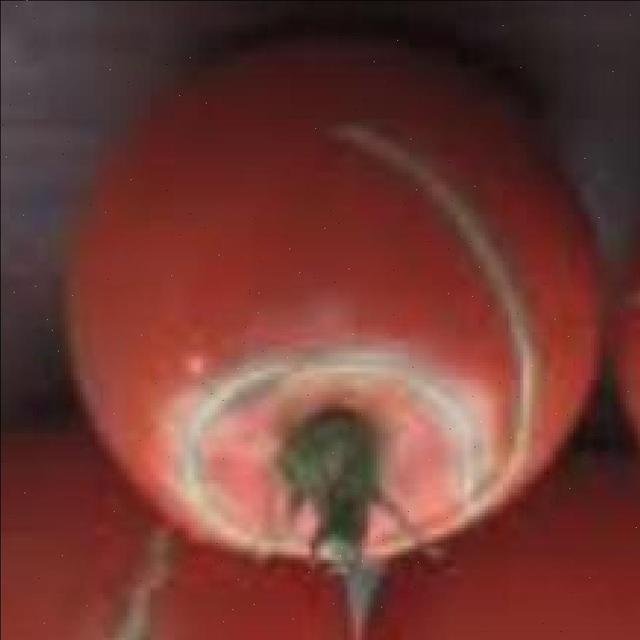Cracking Fruit: (173, 144, 295, 304)
